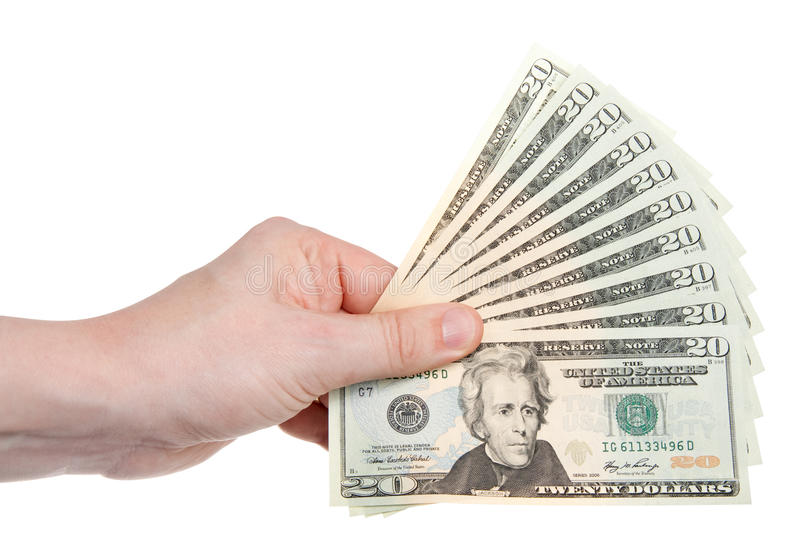billete: (322, 39, 771, 518)
